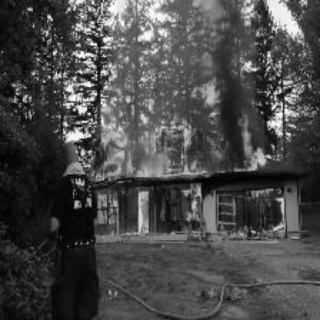Fire: (52, 93, 306, 243)
